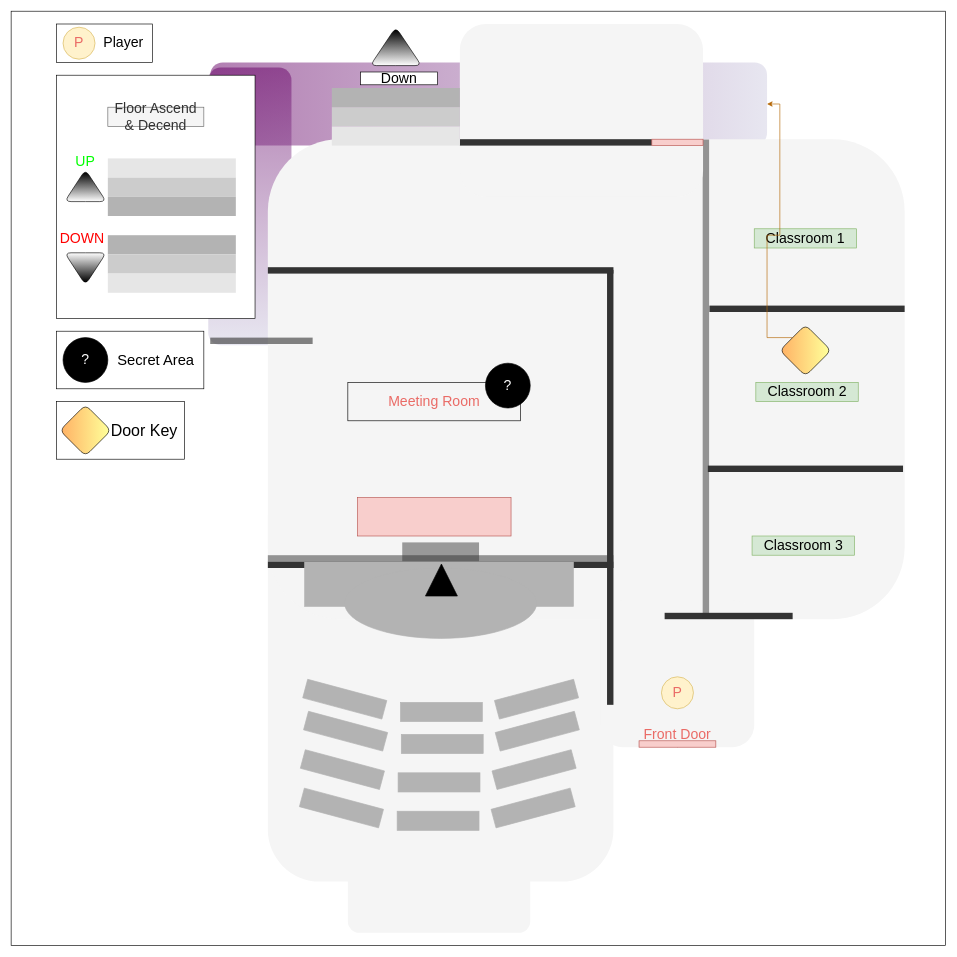
The diagram is 957 pixels wide and 957 high, and some of its shapes have lost their labels. Here are the shapes that lost their labels. From the top down, the centre of each, then its label:
At pixel 581 110: "Storage room".
At pixel 434 516: "Church Staff & Organizers Only".
